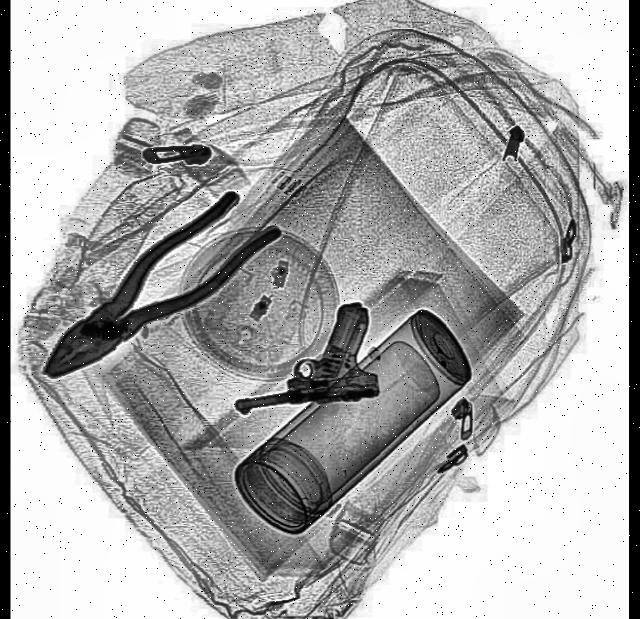Gun: (226, 299, 378, 412)
Pliers: (24, 170, 281, 405)
